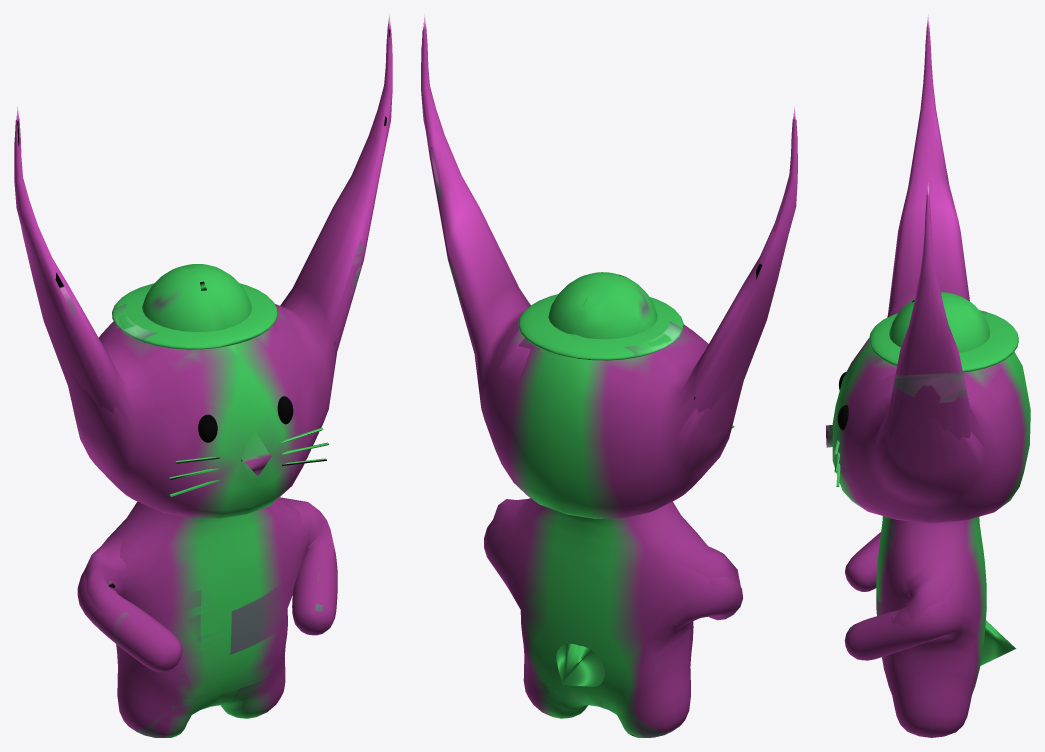
Rendered from Monster Hilal.gltf.
3 views of the same model, side by side, from view 1: azimuth 30°, elevation 25°; view 2: azimuth 150°, elevation 25°; view 3: azimuth 270°, elevation 25° (orthographic). The views are drawn at different scales.
Visible parts, largest first — view 1: Monster Hilal; view 2: Monster Hilal; view 3: Monster Hilal.
Part boxes in pixels (bbox=[...]): Monster Hilal: bbox=[14, 14, 392, 737]; Monster Hilal: bbox=[421, 14, 797, 737]; Monster Hilal: bbox=[826, 14, 1030, 737].
Bounding box in the file's own units: 4.59 × 7.73 × 2.32.
1 material, 1 textured.
